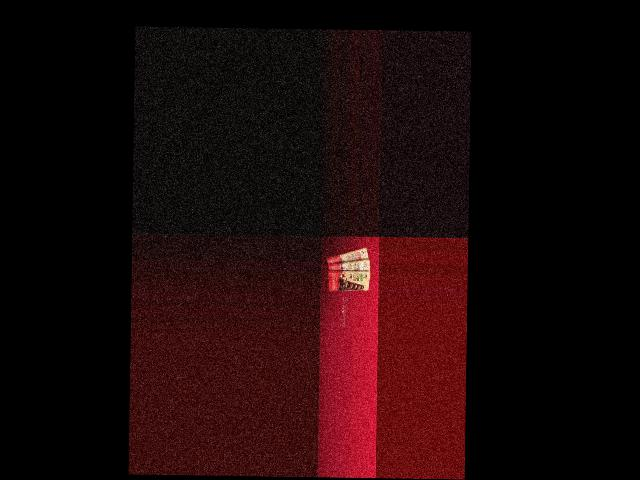chocolate: (324, 247, 371, 269)
